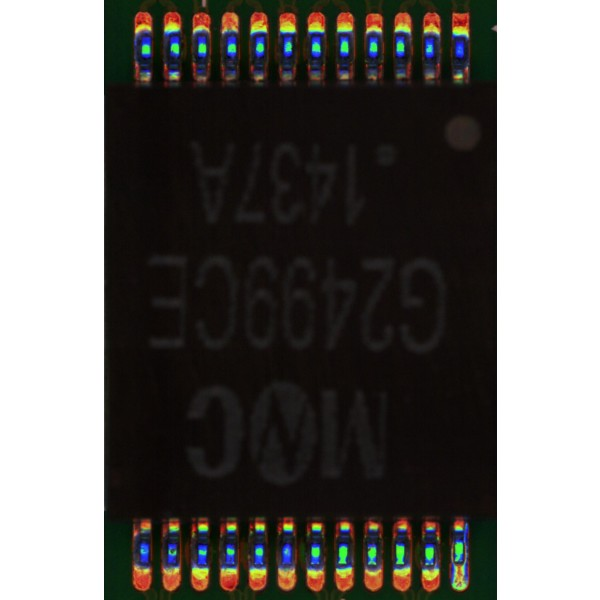Bad_podu: (454, 554, 464, 576)
Bad_qiaojiao: (465, 524, 471, 565)
